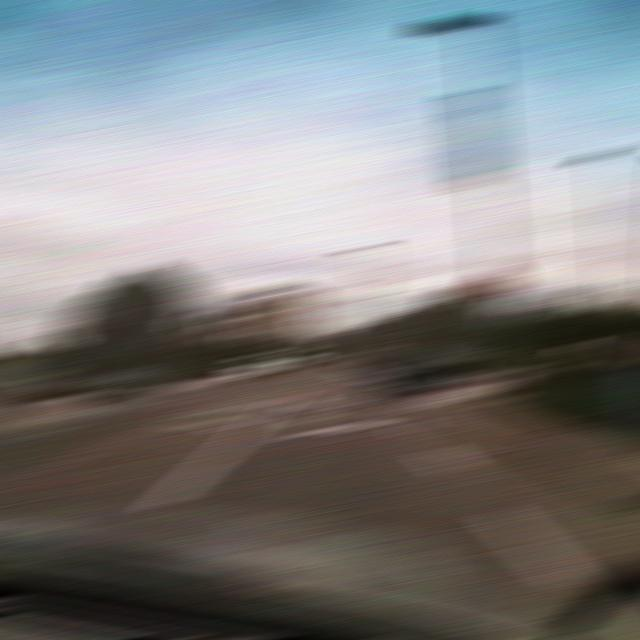stop_sign: (472, 267, 518, 298)
